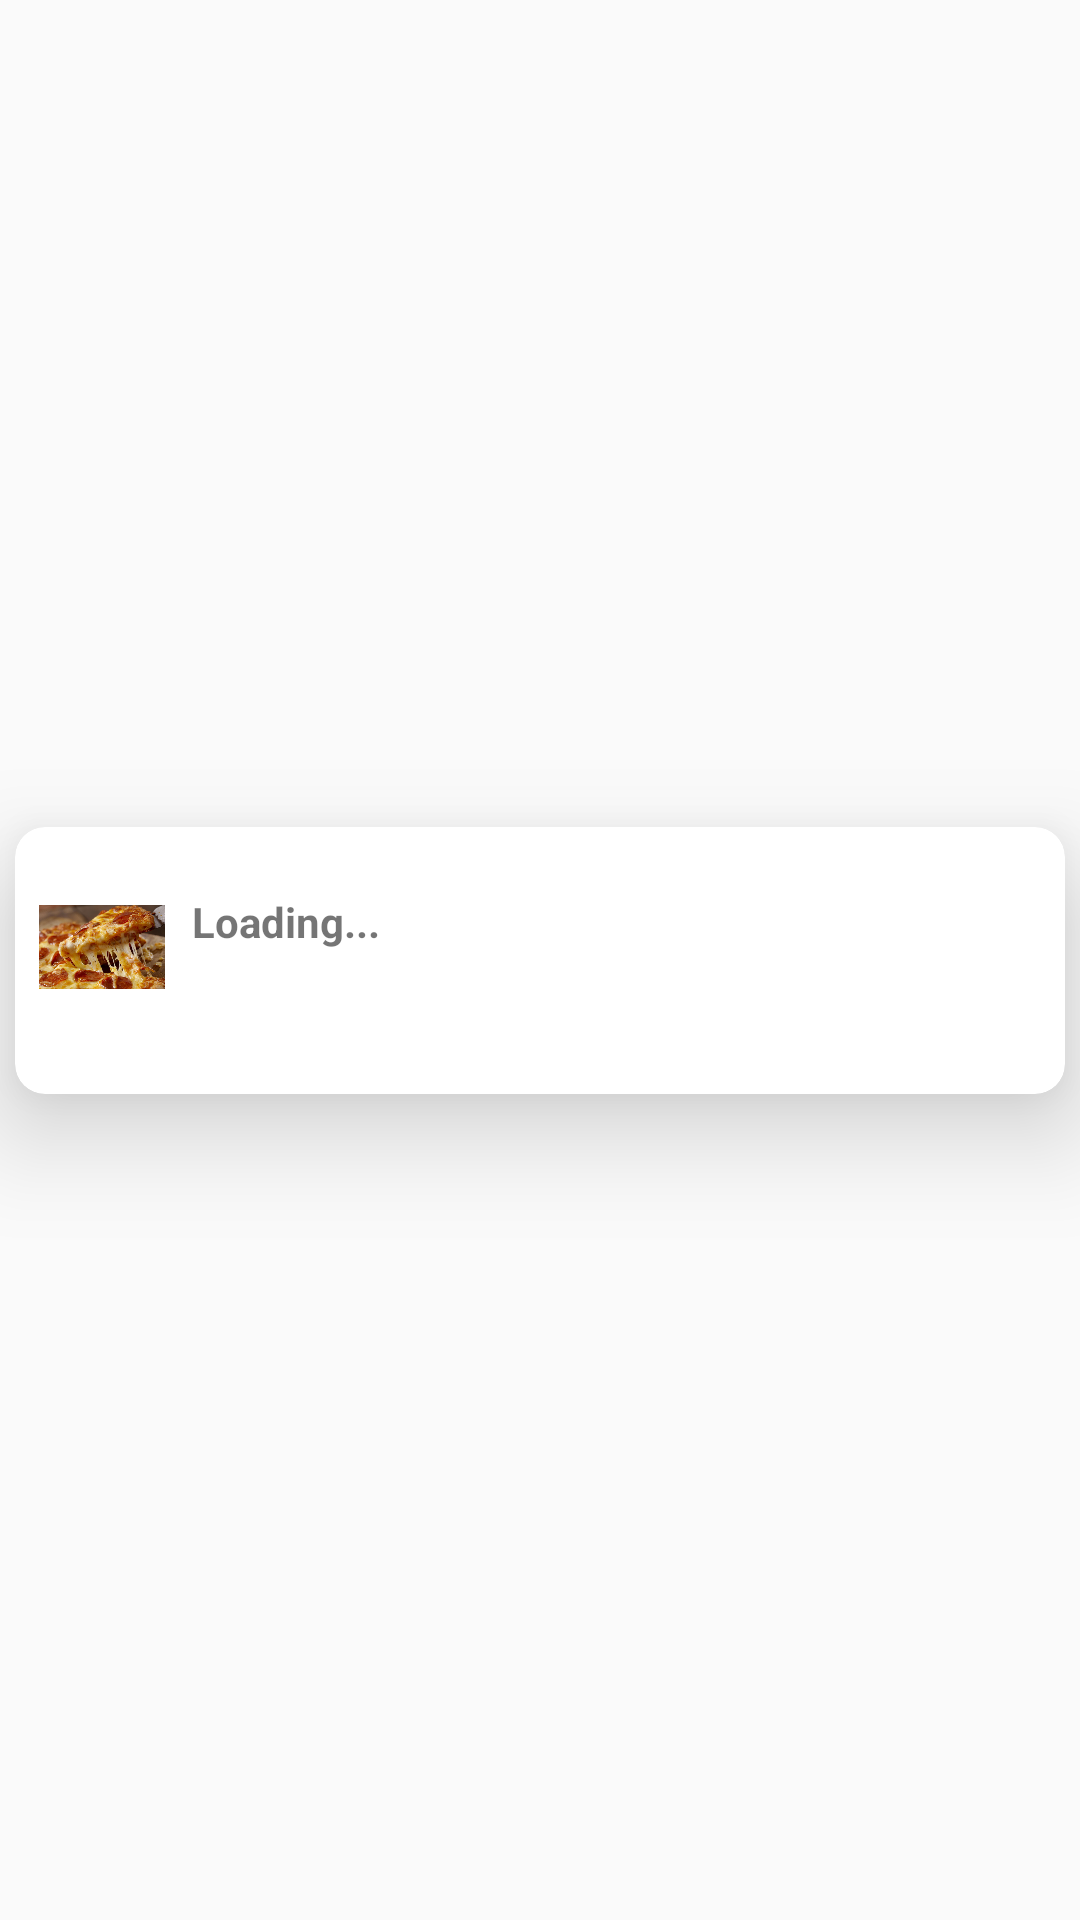

Icon click points for this 1080w x 1920h phone screenshot, format [x,y]:
pizza: [102,947]
